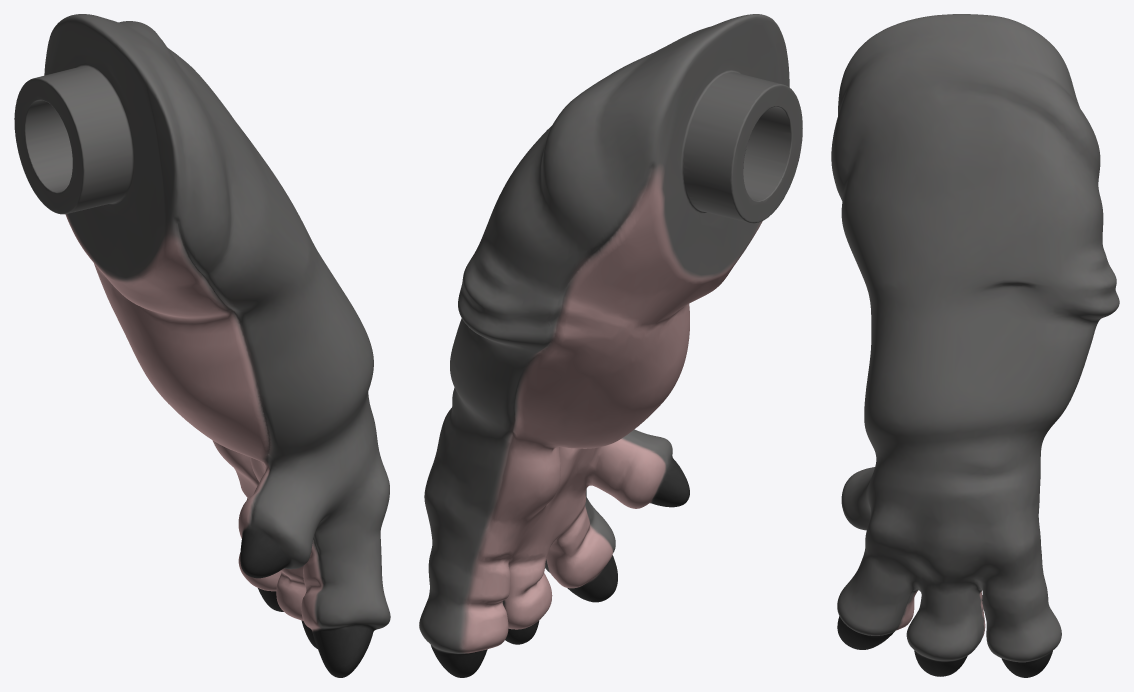
The model's file is Bras_Hippopotame_lft.glb.
The picture shows the model from 3 angles, left to right: view 1: azimuth 30°, elevation 25°; view 2: azimuth 150°, elevation 25°; view 3: azimuth 270°, elevation 25°; orthographic projection. The views are drawn at different scales.
Visible parts, largest first — view 1: Bras_Hippopotame_lft; view 2: Bras_Hippopotame_lft; view 3: Bras_Hippopotame_lft.
Boxes of the visible parts, x1,y1,x2,y2 form: Bras_Hippopotame_lft: [14, 14, 390, 677]; Bras_Hippopotame_lft: [419, 14, 802, 677]; Bras_Hippopotame_lft: [831, 14, 1119, 677].
Size of the model in its own units: 2.22 by 4.47 by 2.03.
